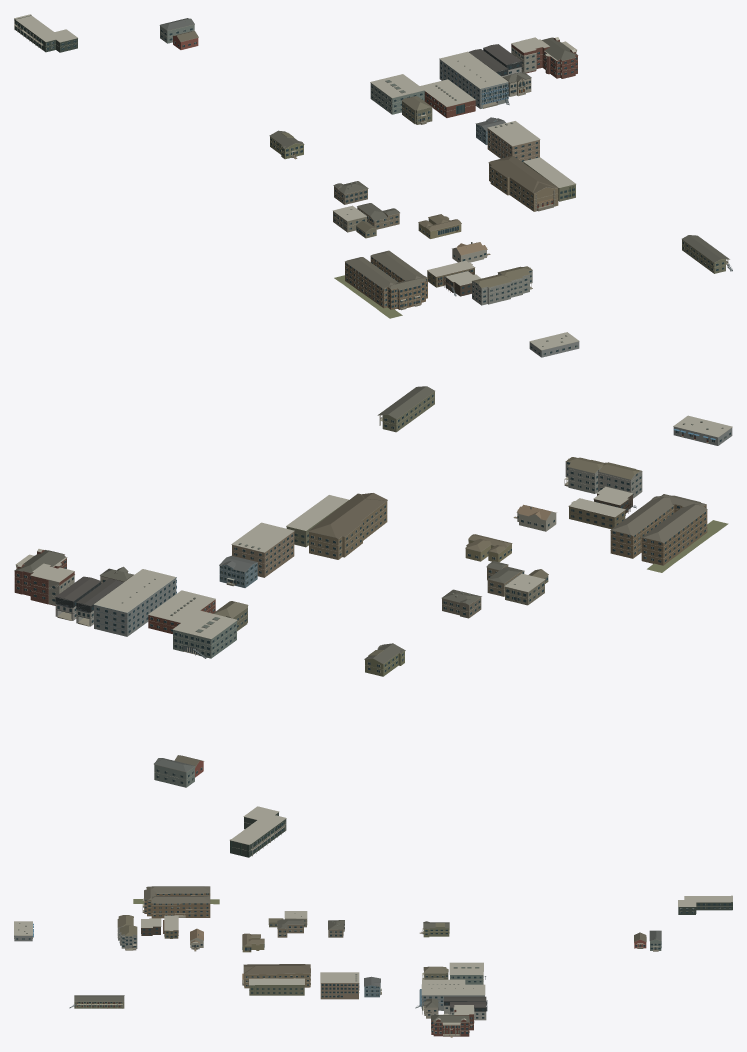
File: site.glb
3 views of the same model, one above another, from view 1: azimuth 30°, elevation 25°; view 2: azimuth 150°, elevation 25°; view 3: azimuth 270°, elevation 25° (orthographic). The views are drawn at different scales.
Parts seen in each view (by area): view 1: roof-c3968ae7, east17-723, roof-99b8ce63, roof-2d44cd0f, roof-a577913c, roof-9026cd6b, east16-737, roof-b4507d3f, east15-alley-170403, roof-22f89f22, roof-621d0cba, roof-26e345d9 (+11 smaller); view 2: roof-c3968ae7, roof-99b8ce63, east17-723, roof-2d44cd0f, east15-alley-170403, roof-9026cd6b, roof-a577913c, roof-b4507d3f, east16-737, roof-22f89f22, roof-2229f729, roof-26e345d9 (+12 smaller); view 3: roof-c3968ae7, roof-2d44cd0f, east17-723, roof-9026cd6b, roof-99b8ce63, roof-621d0cba, roof-b4507d3f, east15-alley-170403, roof-22f89f22, roof-a577913c, roof-d5d31ae2, roof-b1145ae3 (+11 smaller).
Part boxes in pixels (bbox=[...]): roof-c3968ae7: bbox=[345, 250, 427, 310]; east17-723: bbox=[488, 156, 558, 211]; roof-99b8ce63: bbox=[439, 51, 509, 108]; roof-2d44cd0f: bbox=[511, 37, 578, 78]; roof-a577913c: bbox=[472, 266, 532, 305]; roof-9026cd6b: bbox=[487, 121, 540, 162]; east16-737: bbox=[420, 79, 475, 117]; roof-b4507d3f: bbox=[14, 14, 77, 52]; east15-alley-170403: bbox=[370, 74, 424, 114]; roof-22f89f22: bbox=[682, 235, 732, 273]; roof-621d0cba: bbox=[523, 157, 575, 201]; roof-26e345d9: bbox=[529, 332, 579, 357]; roof-c3968ae7: bbox=[610, 494, 707, 565]; roof-99b8ce63: bbox=[93, 569, 176, 636]; east17-723: bbox=[308, 493, 387, 559]; roof-2d44cd0f: bbox=[14, 549, 74, 605]; east15-alley-170403: bbox=[172, 610, 237, 658]; roof-9026cd6b: bbox=[231, 522, 294, 577]; roof-a577913c: bbox=[564, 457, 642, 498]; roof-b4507d3f: bbox=[229, 806, 286, 857]; east16-737: bbox=[148, 590, 215, 633]; roof-22f89f22: bbox=[377, 386, 434, 432]; roof-2229f729: bbox=[568, 498, 625, 529]; roof-26e345d9: bbox=[673, 415, 732, 445]; roof-c3968ae7: bbox=[142, 886, 210, 918]; roof-2d44cd0f: bbox=[431, 1005, 474, 1036]; east17-723: bbox=[242, 964, 310, 988]; roof-9026cd6b: bbox=[320, 972, 359, 999]; roof-99b8ce63: bbox=[415, 984, 485, 1010]; roof-621d0cba: bbox=[249, 978, 304, 995]; roof-b4507d3f: bbox=[678, 895, 732, 914]; east15-alley-170403: bbox=[449, 962, 485, 984]; roof-22f89f22: bbox=[69, 995, 124, 1008]; roof-a577913c: bbox=[117, 915, 137, 950]; roof-d5d31ae2: bbox=[277, 919, 304, 937]; roof-b1145ae3: bbox=[422, 921, 449, 937].
Size of the model in its own units: 241 by 18.7 by 499.
